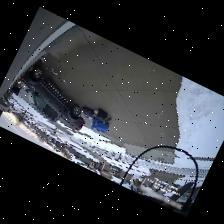person: (95, 108, 111, 124)
